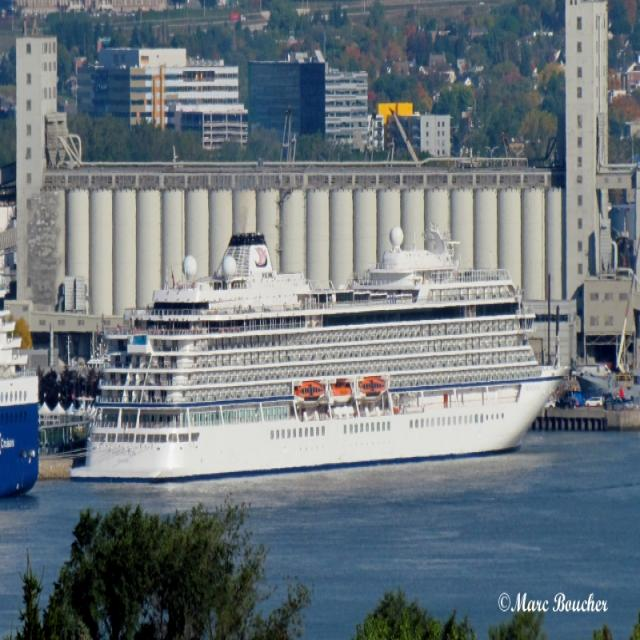cruises: (68, 223, 571, 490)
